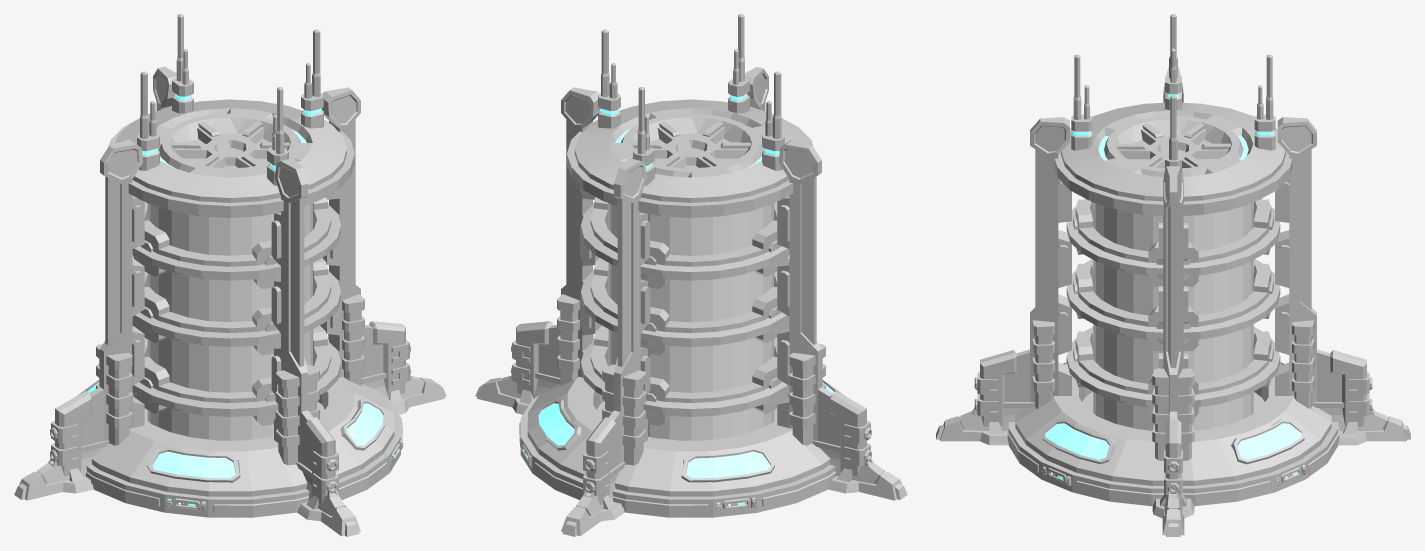
Rendered from entity342994.glb.
The picture shows the model from 3 angles, left to right: view 1: azimuth 30°, elevation 25°; view 2: azimuth 150°, elevation 25°; view 3: azimuth 270°, elevation 25°; orthographic projection. The views are drawn at different scales.
Visible parts, largest first — view 1: node_SM_Prop_PowerGenerator_01; view 2: node_SM_Prop_PowerGenerator_01; view 3: node_SM_Prop_PowerGenerator_01.
Part boxes in pixels (x1=…): node_SM_Prop_PowerGenerator_01: x1=14, y1=14, x2=446, y2=536; node_SM_Prop_PowerGenerator_01: x1=475, y1=14, x2=907, y2=536; node_SM_Prop_PowerGenerator_01: x1=936, y1=14, x2=1410, y2=536.
Size of the model in its own units: 20.62 by 18.28 by 20.62.
